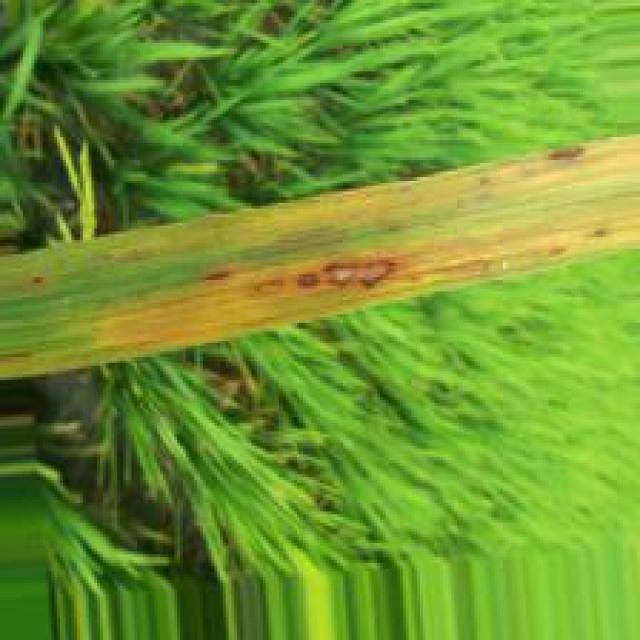Leaf_Blast: (311, 259, 399, 293), (290, 271, 318, 290)
